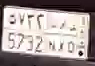2: (34, 12, 46, 53)
3: (25, 13, 36, 52)
5: (6, 12, 17, 51)
7: (15, 11, 27, 49)
D: (66, 22, 78, 55)
N: (48, 18, 58, 52)
X: (58, 18, 68, 52)
